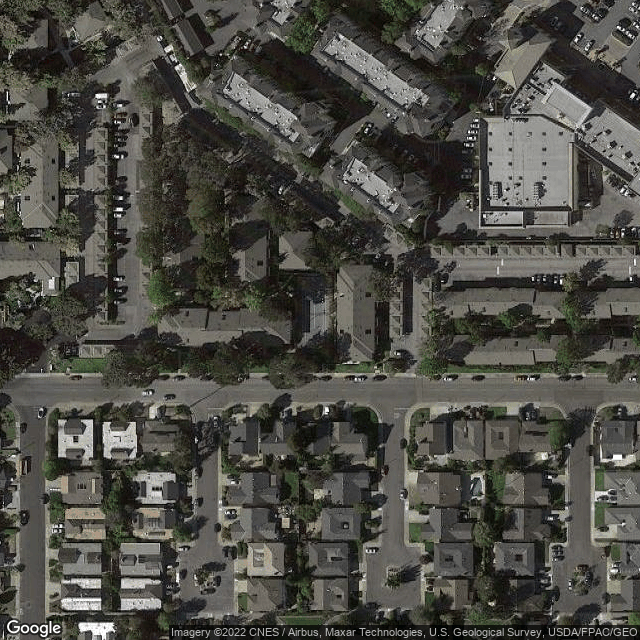Court: (302, 286, 329, 345)
